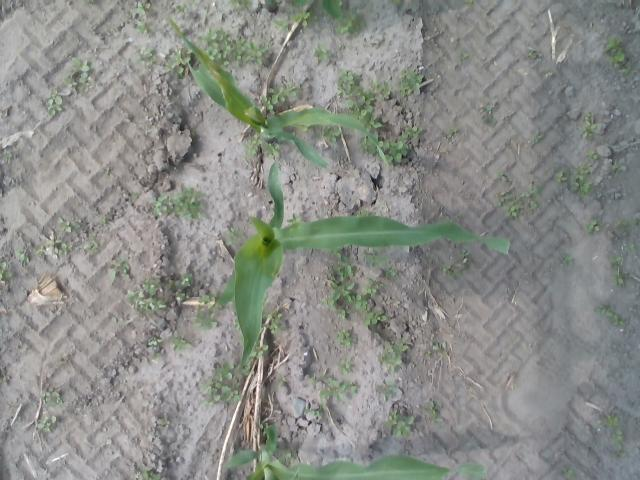Maize: (217, 159, 510, 382), (168, 15, 390, 168), (225, 425, 487, 480), (322, 0, 342, 18), (264, 0, 280, 13), (291, 0, 308, 6)
Weeds: (126, 272, 192, 316), (200, 27, 268, 68), (336, 68, 392, 114), (198, 361, 254, 405), (552, 150, 600, 196), (148, 186, 208, 220), (496, 182, 542, 222), (322, 283, 367, 318), (314, 374, 358, 402), (376, 336, 408, 374), (261, 84, 299, 116), (65, 58, 93, 92), (384, 408, 416, 437), (35, 235, 73, 259), (335, 8, 365, 36), (608, 250, 630, 288), (594, 300, 626, 326), (396, 69, 424, 97), (44, 88, 72, 116), (328, 249, 355, 278), (164, 48, 190, 74), (378, 140, 408, 162), (107, 258, 132, 284), (603, 36, 626, 64), (262, 308, 284, 334), (39, 386, 64, 408), (132, 463, 164, 480), (289, 6, 311, 28), (194, 310, 218, 330), (363, 310, 388, 329), (56, 214, 82, 232), (362, 250, 387, 268), (137, 44, 157, 66), (35, 414, 59, 432), (379, 379, 399, 400), (582, 112, 598, 138), (224, 226, 242, 248), (244, 134, 262, 155), (336, 329, 355, 348), (313, 43, 331, 63), (358, 114, 382, 129), (482, 106, 498, 128), (169, 335, 192, 350), (321, 127, 343, 142), (610, 428, 624, 450), (401, 124, 421, 139), (275, 449, 293, 465), (82, 232, 98, 250), (263, 141, 281, 157), (134, 0, 151, 16), (274, 15, 290, 32), (360, 135, 375, 153), (441, 264, 460, 278), (0, 260, 12, 282), (197, 294, 219, 306), (422, 400, 438, 416), (253, 342, 269, 358), (304, 406, 322, 420), (136, 20, 153, 34), (364, 278, 381, 292), (529, 130, 543, 146), (16, 250, 30, 266), (155, 412, 170, 426), (337, 358, 350, 374), (585, 219, 599, 233), (560, 466, 574, 480), (620, 63, 635, 76), (459, 248, 472, 262), (604, 413, 616, 428), (495, 170, 508, 183), (100, 166, 114, 178), (432, 341, 448, 351), (560, 253, 574, 264), (528, 47, 540, 59), (96, 214, 108, 226), (175, 2, 187, 14), (356, 209, 374, 217), (445, 127, 458, 138), (129, 190, 140, 202), (148, 337, 161, 347), (613, 218, 627, 227), (286, 214, 300, 222), (457, 51, 468, 61), (611, 160, 621, 171), (422, 349, 433, 359), (228, 0, 246, 6), (4, 152, 12, 164), (384, 268, 394, 277), (278, 376, 286, 386), (626, 243, 637, 249), (84, 0, 95, 6), (260, 421, 268, 428), (391, 0, 401, 4), (634, 218, 639, 226), (431, 334, 435, 339), (464, 0, 472, 2)
